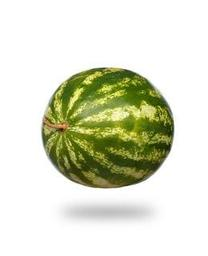watermelon: (40, 68, 175, 191)
